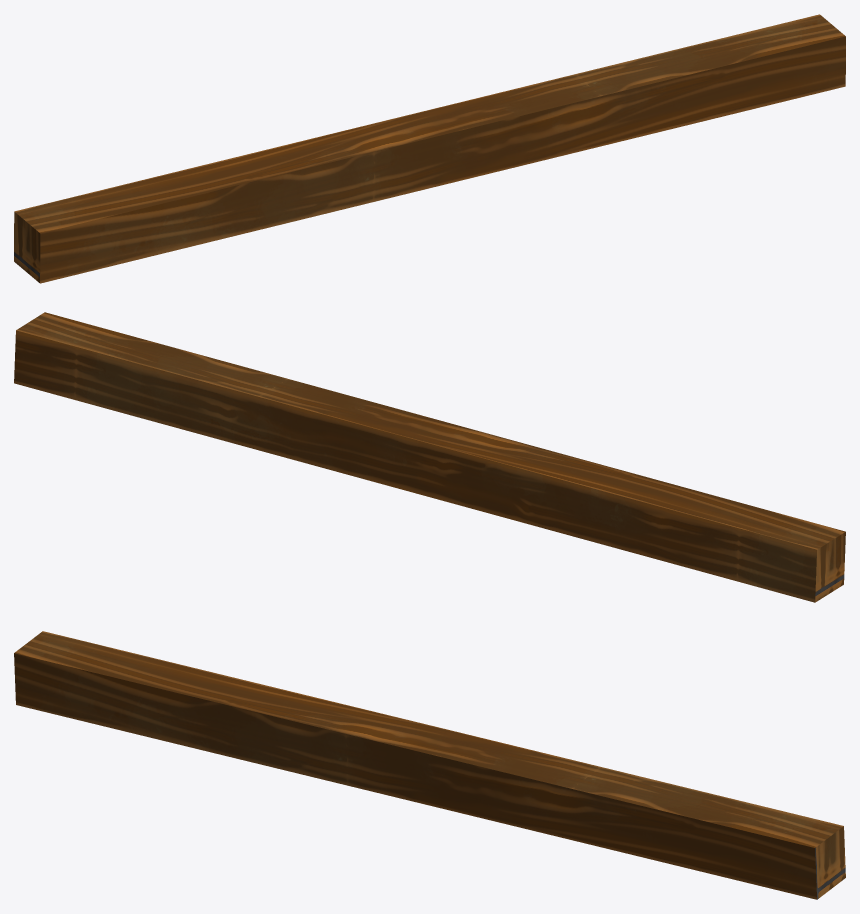
3 renders of one model, top to bottom at view 1: azimuth 30°, elevation 25°; view 2: azimuth 150°, elevation 25°; view 3: azimuth 330°, elevation 25°, orthographic. The views are drawn at different scales.
Visible parts, largest first — view 1: Cube.1983; view 2: Cube.1983; view 3: Cube.1983.
Boxes of the visible parts, x1=… form: Cube.1983: x1=14, y1=14, x2=845, y2=283; Cube.1983: x1=14, y1=312, x2=845, y2=602; Cube.1983: x1=14, y1=631, x2=845, y2=899.
Bounding box in the file's own units: 706 × 55.12 × 61.33.
1 material, 1 textured.
